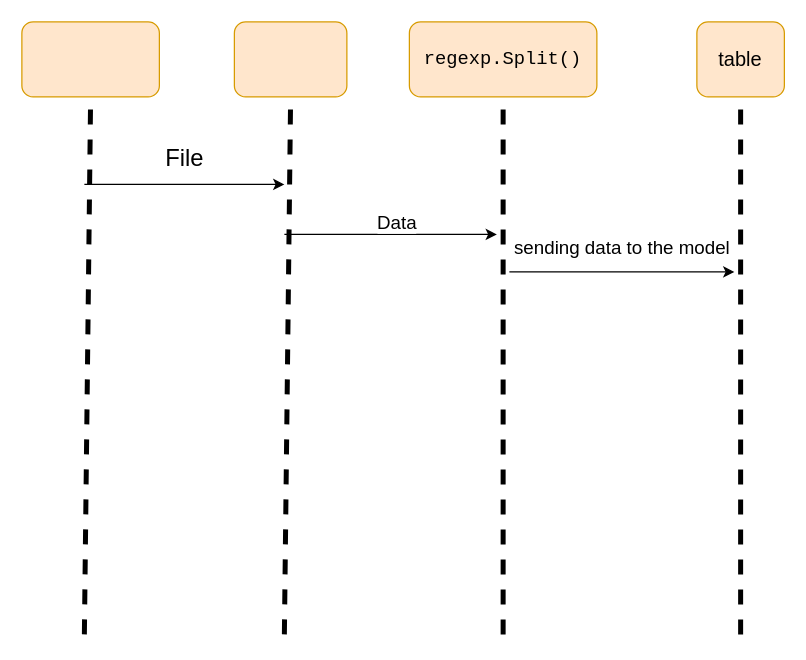
Some shapes in this 806 by 660 pixel diagram are drawn without their labels. The shapes that lost their labels are listed below. From the top down, each one's centre as x and y in pixels, then its label:
At point 90,59: "CSVReader".
At point 290,59: "readCSV()".
